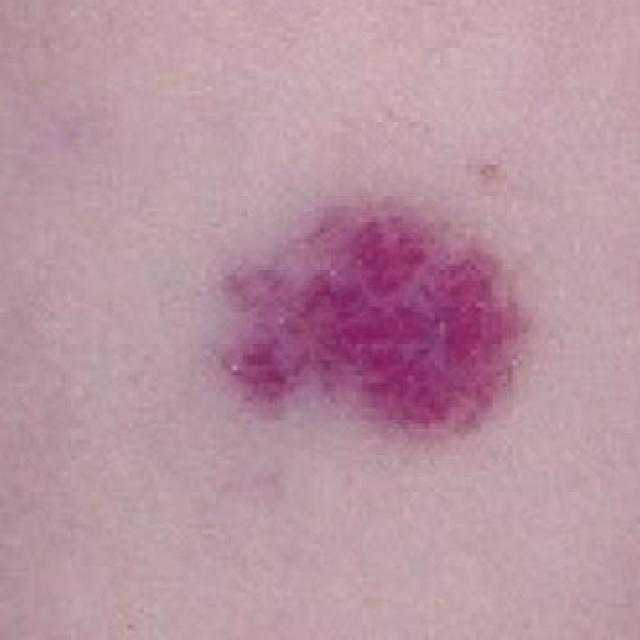VASC: (134, 130, 544, 472)
